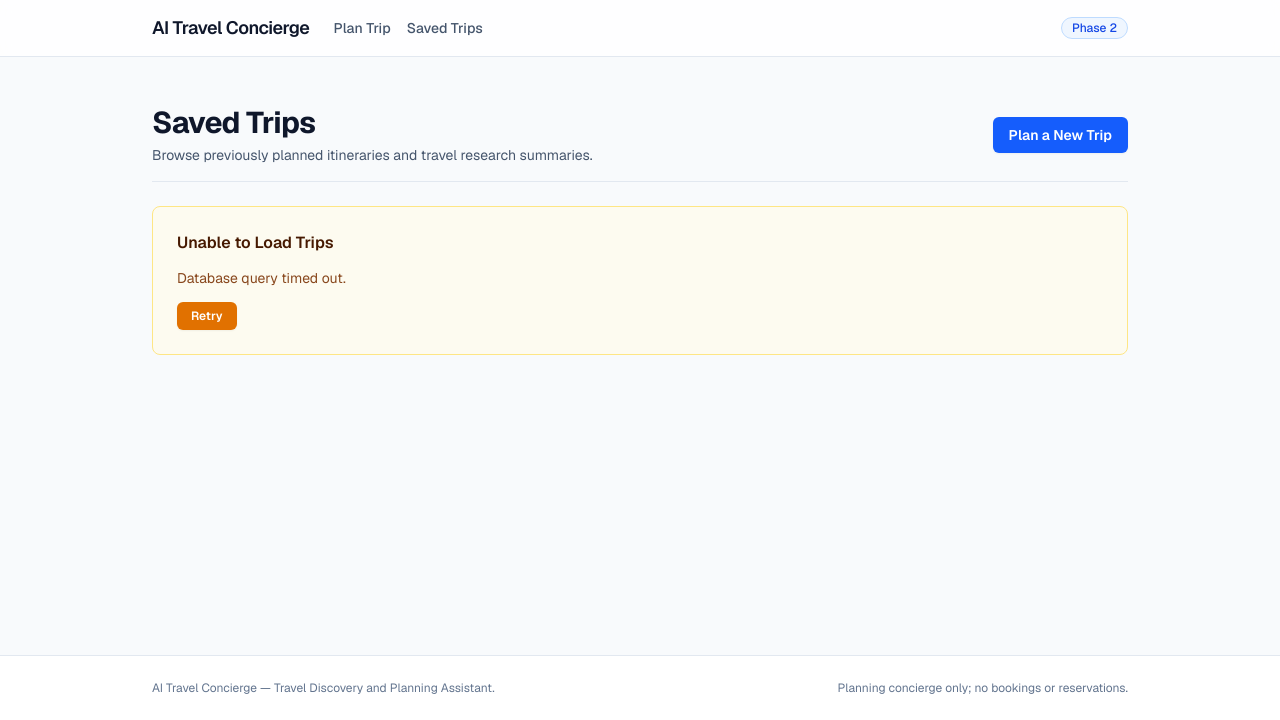
Test case: TripsListPage Component › renders error state with Retry button that re-fetches on click
The width and height of the screenshot is (1280, 720).
Expected: the message "Unable to Load Trips Database query timed out. Retry" is shown, [152,206,1128,355]
Expected: the text "Database query timed out." is shown, [177,269,346,287]
Click retry
What coordinates should you click on to do the following:
click the button "Retry"
I would click on:
 (207, 316)
Its box is [177,302,236,330].
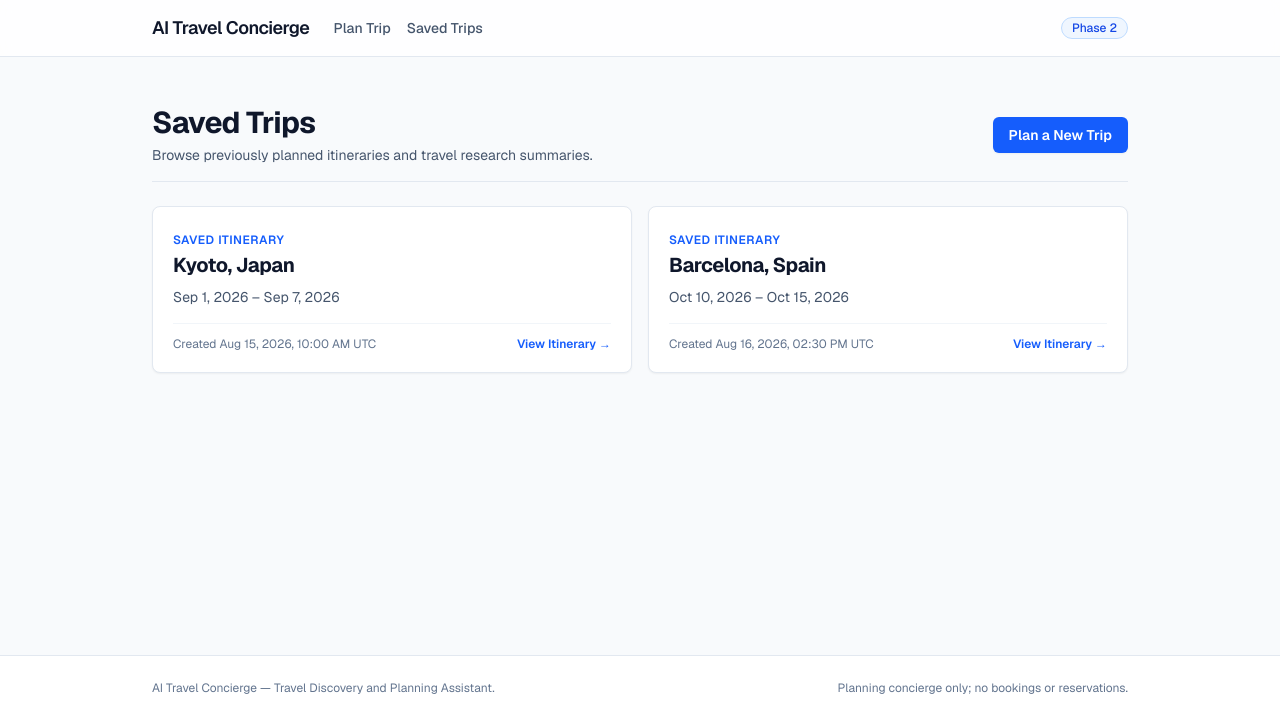
Expected: the heading "Kyoto, Japan" is shown, [173,252,294,278]
